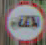Heavy Vehicles: (2, 4, 45, 41)
